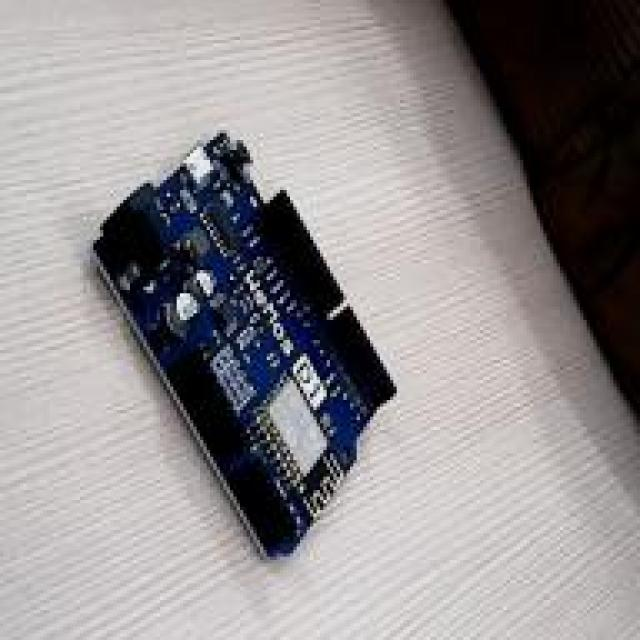Wemos: (94, 134, 394, 554)
